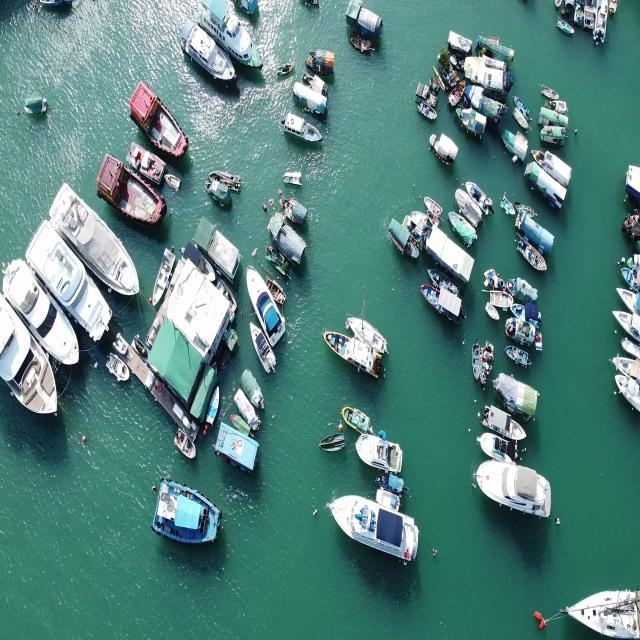ship: (56, 182, 140, 306), (2, 255, 86, 368), (329, 492, 422, 564), (468, 458, 562, 522), (155, 476, 225, 546), (95, 151, 165, 221), (191, 9, 269, 70), (183, 14, 235, 93), (244, 258, 284, 349), (136, 80, 183, 155), (564, 590, 638, 632)
